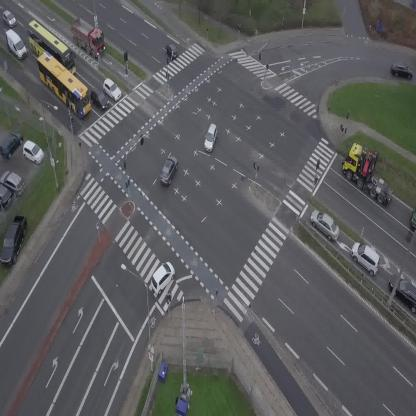bicycle: (68, 116, 75, 131)
bus: (28, 48, 100, 119), (17, 18, 85, 80)
car: (345, 238, 387, 278), (305, 207, 345, 244), (145, 259, 180, 295), (156, 153, 182, 187), (85, 86, 113, 112), (99, 77, 125, 102), (203, 123, 219, 152), (390, 62, 414, 79), (0, 9, 18, 29), (163, 41, 181, 60)
lorry: (334, 136, 399, 216), (62, 14, 113, 61), (1, 27, 30, 62), (410, 204, 416, 228)
